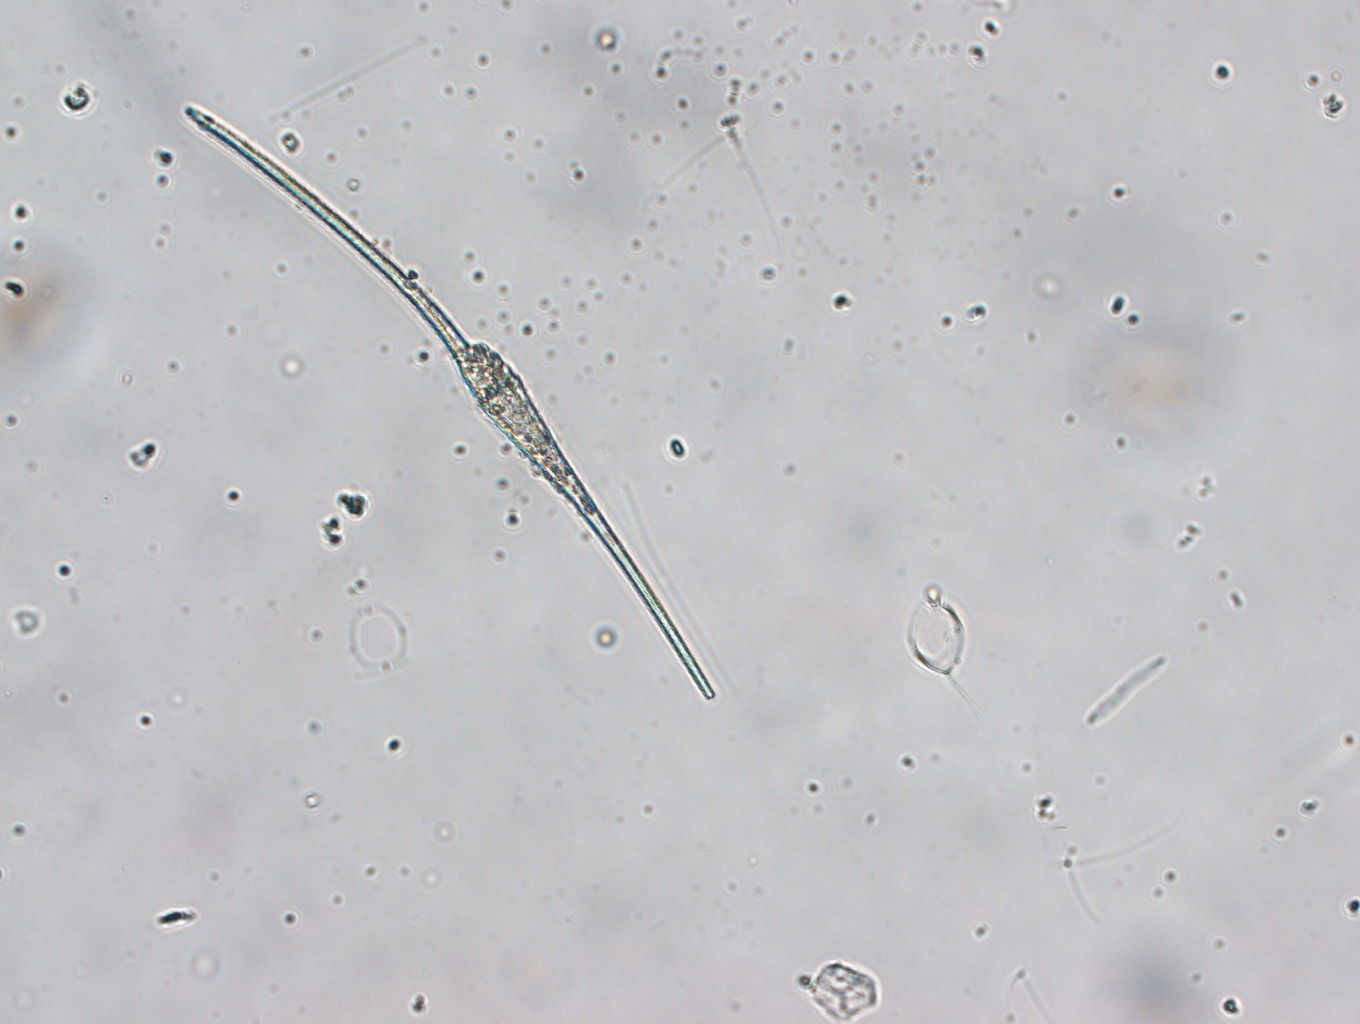ceratium fusus: (183, 103, 713, 700)
